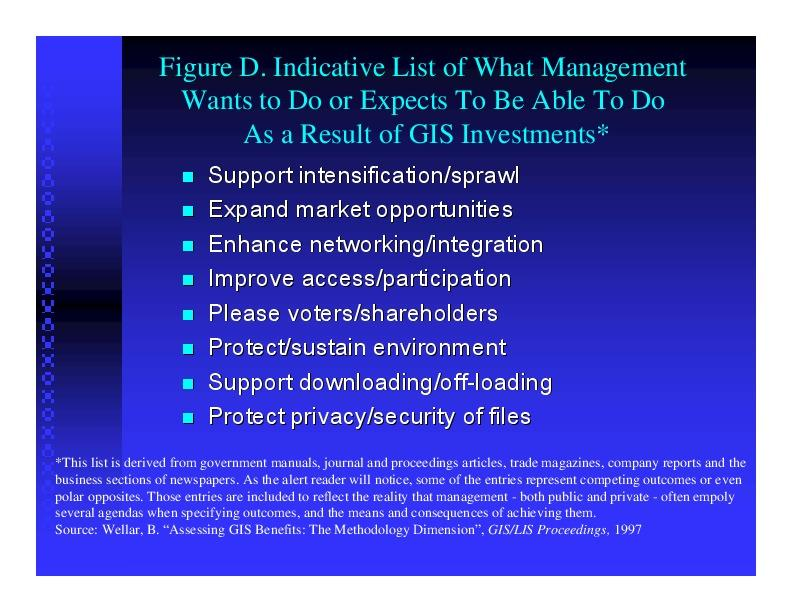paragraph: (159, 152, 666, 446), (50, 450, 750, 564)
title: (150, 49, 705, 155)
